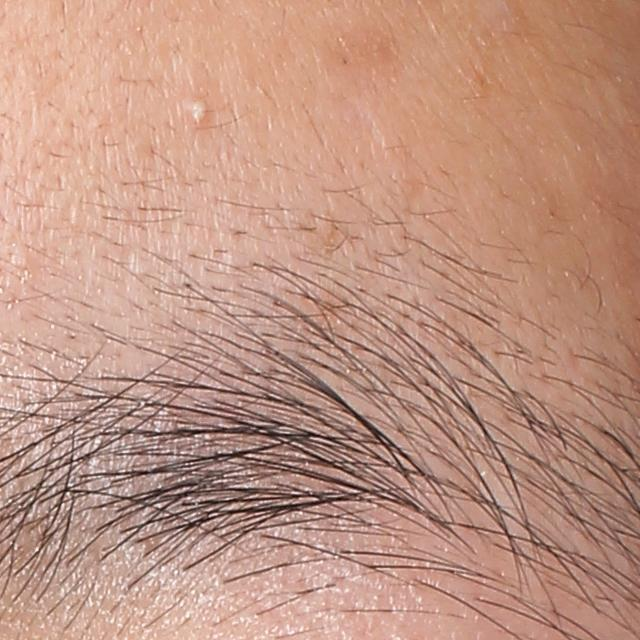pustule: (182, 93, 215, 131)
